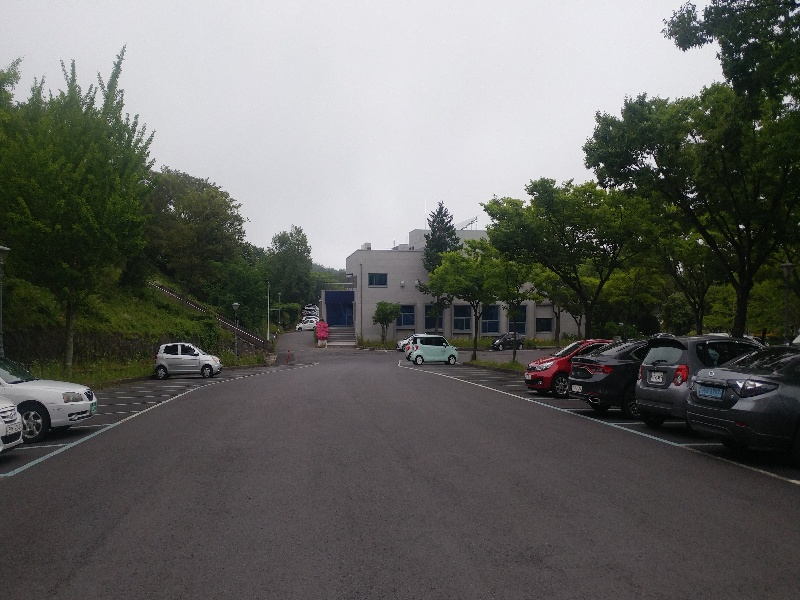College of Social Science: (312, 220, 592, 335), (323, 284, 358, 346)
